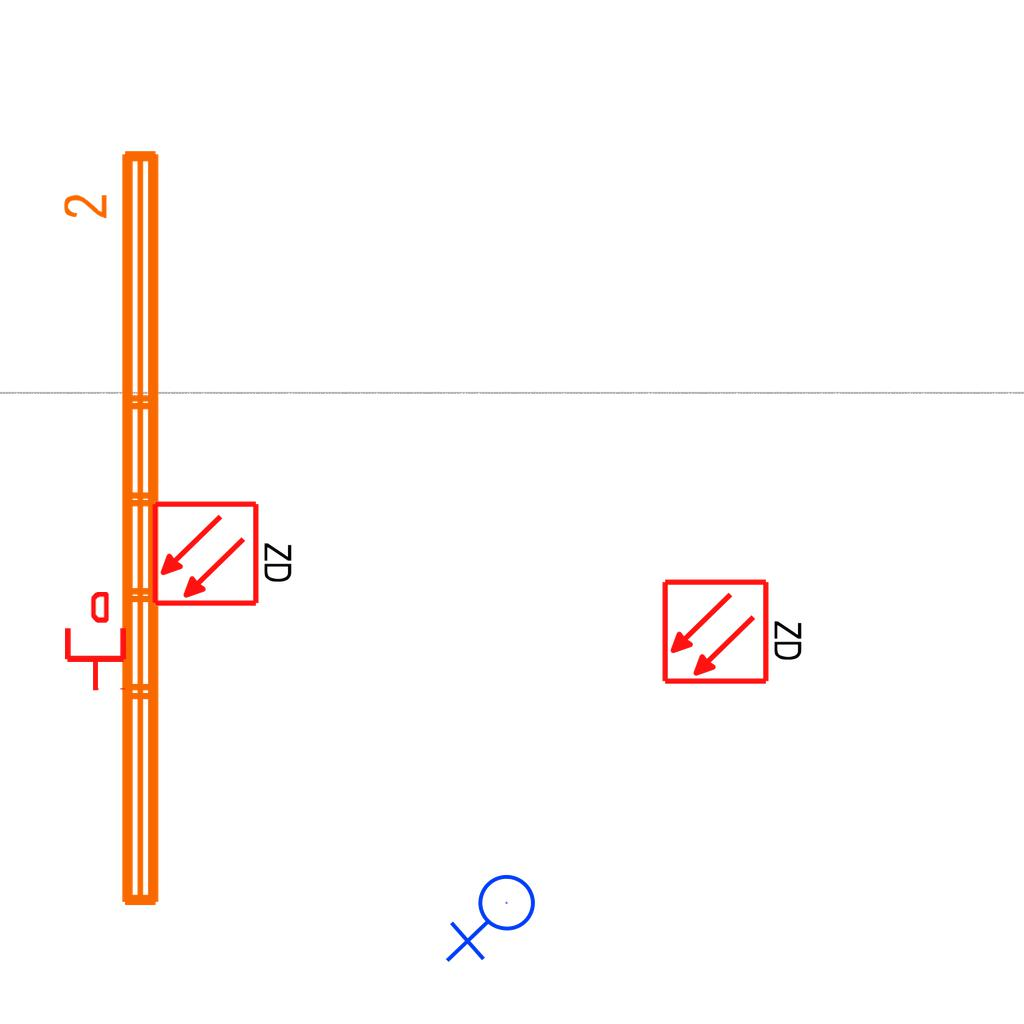Ambulanz_Pendelleuchte_LED: (59, 142, 171, 916)
Datenanschluss_einfach: (61, 592, 130, 692)
Elektroanschluss_allgemein_230V_Geraeteanschlussdose_230V: (445, 873, 544, 967)
ZD_Melder_in_Zwischendecke_mit_Revisionsoeffnung_mind_40_x_40_cm: (150, 495, 299, 609), (660, 573, 809, 687)
